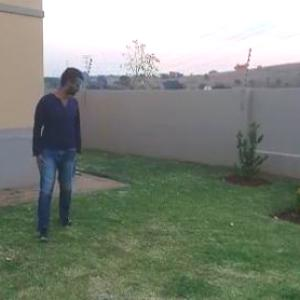follow: (25, 60, 86, 244)
